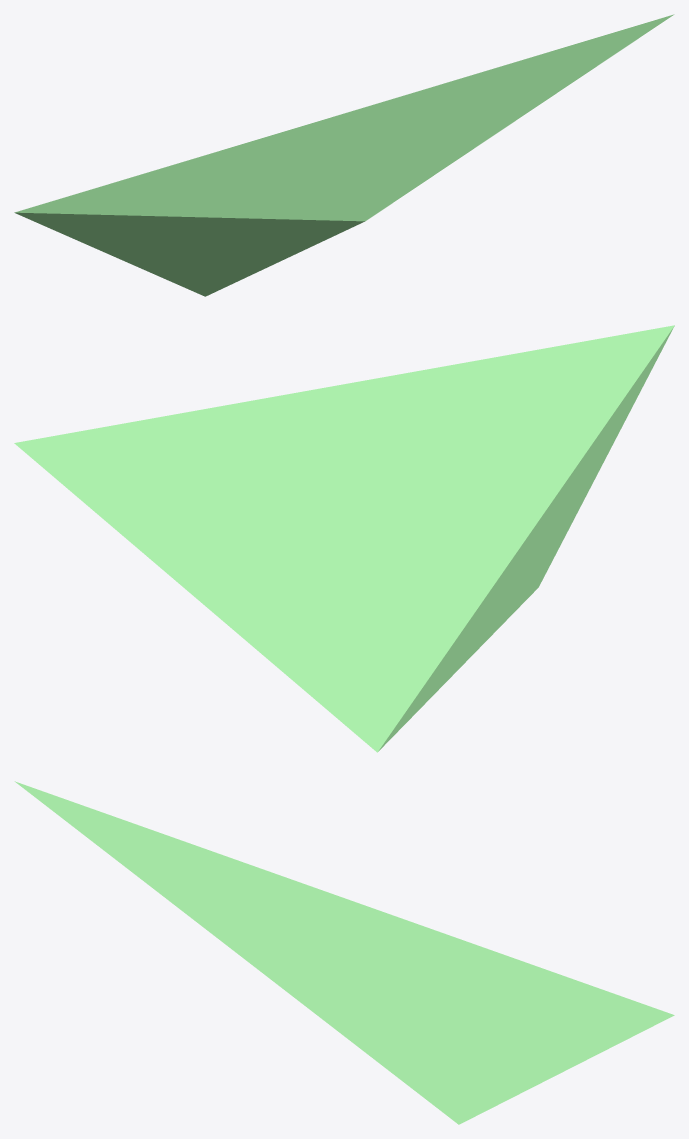
Rendered from linkhou_LR4_R560_link6_respondable_coll_7.dae.
3 renders of one model, top to bottom at view 1: azimuth 30°, elevation 25°; view 2: azimuth 150°, elevation 25°; view 3: azimuth 270°, elevation 25°, orthographic. The views are drawn at different scales.
Visible parts, largest first — view 1: Node_00000209DB3ADE40; view 2: Node_00000209DB3ADE40; view 3: Node_00000209DB3ADE40.
Part boxes in pixels (left/top/right/bottom): Node_00000209DB3ADE40: left=14, top=14, right=674, bottom=296; Node_00000209DB3ADE40: left=14, top=325, right=674, bottom=752; Node_00000209DB3ADE40: left=14, top=781, right=674, bottom=1124.
Bounding box in the file's own units: 0.0159 × 0.00693 × 0.0178.
